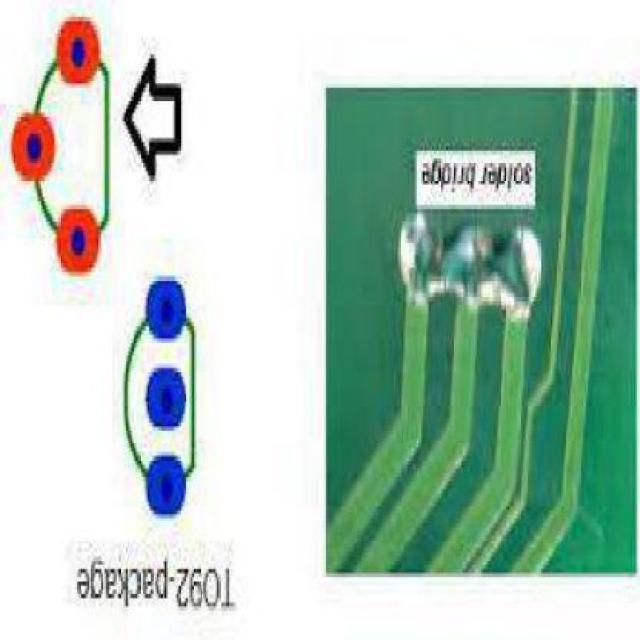Soldering bridge: (395, 209, 540, 331)
